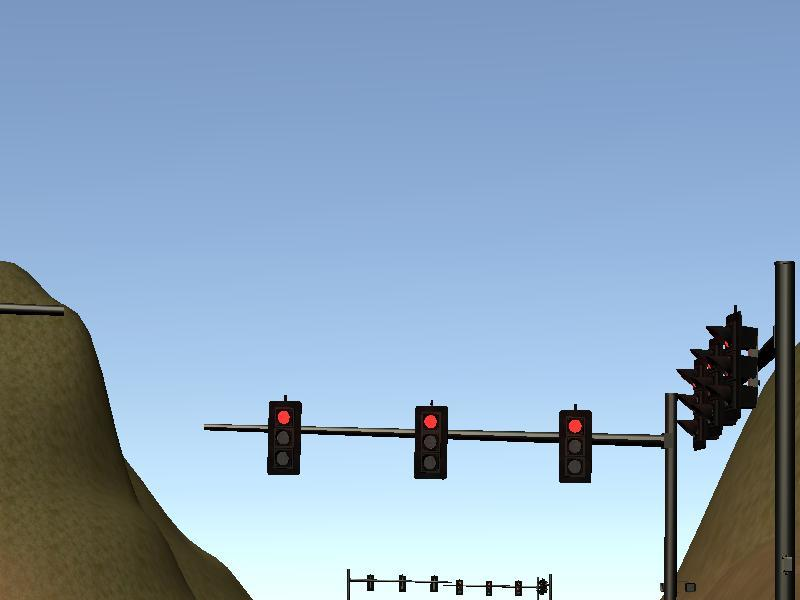Red: (269, 402, 300, 474), (560, 412, 591, 481), (418, 406, 447, 478)
